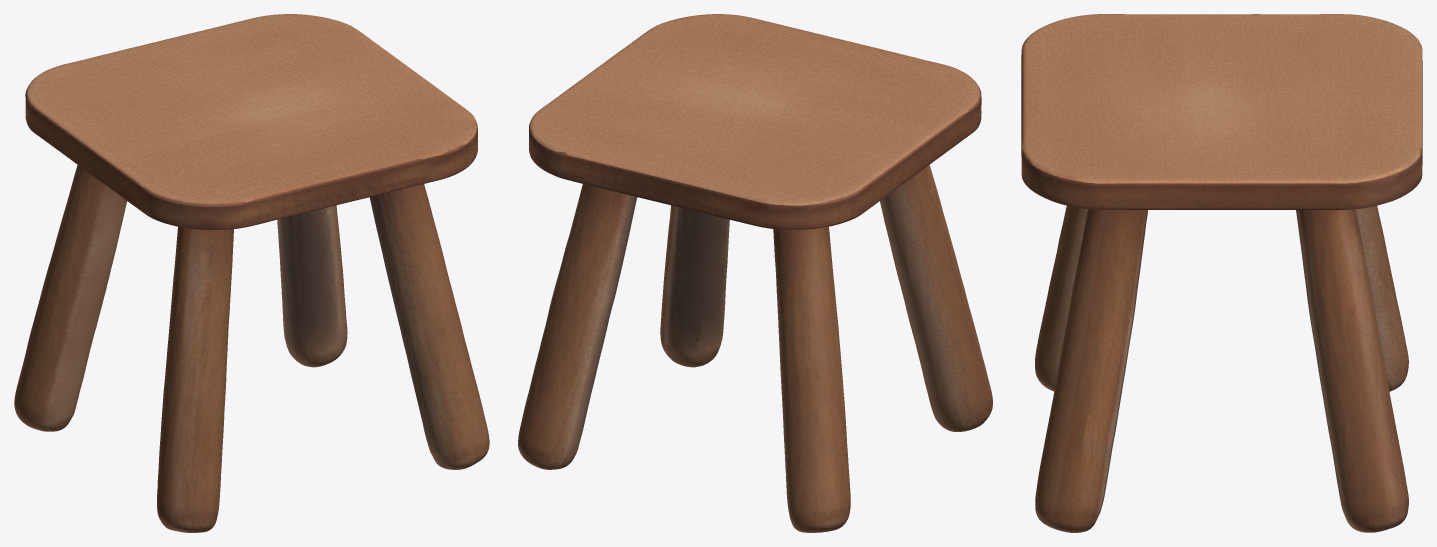
The model's file is stool__stool#1.glb.
The picture shows the model from 3 angles, left to right: view 1: azimuth 30°, elevation 25°; view 2: azimuth 150°, elevation 25°; view 3: azimuth 270°, elevation 25°; orthographic projection. The views are drawn at different scales.
Visible parts, largest first — view 1: tmp222owbuf.ply; view 2: tmp222owbuf.ply; view 3: tmp222owbuf.ply.
Boxes of the visible parts, x1,y1,x2,y2 form: tmp222owbuf.ply: (14, 14, 489, 532); tmp222owbuf.ply: (518, 14, 992, 532); tmp222owbuf.ply: (1021, 14, 1422, 532).
Size of the model in its own units: 1.99 by 1.98 by 1.99.
1 material, 1 textured.
